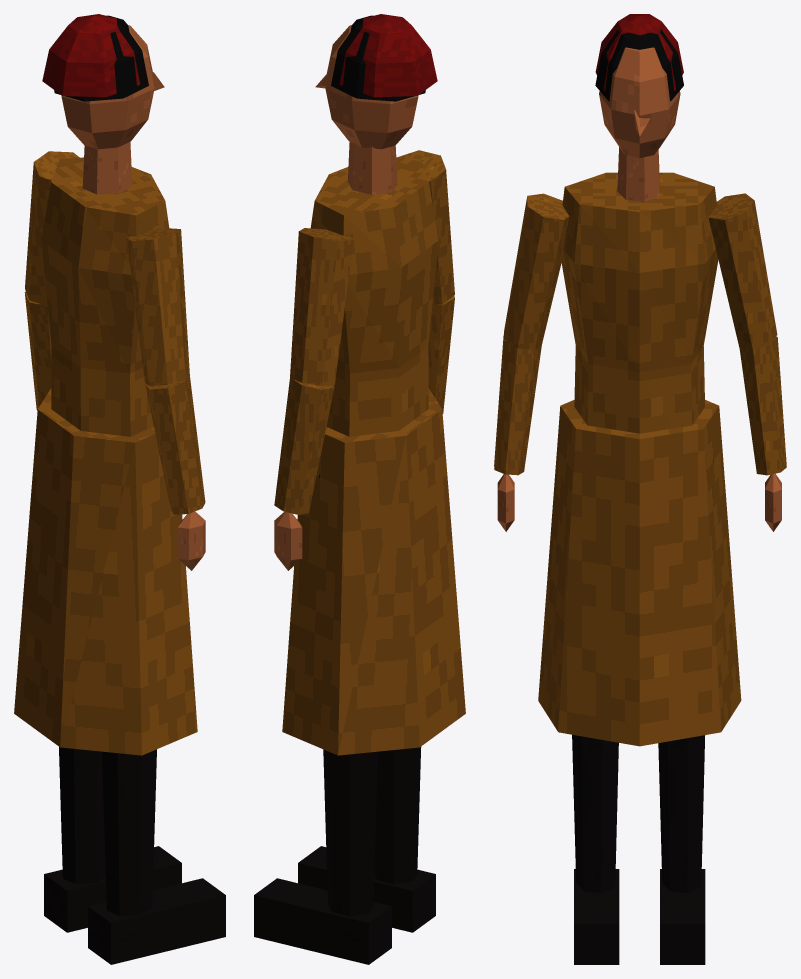
The model's file is refugiado.glb.
3 views of the same model, side by side, from view 1: azimuth 30°, elevation 25°; view 2: azimuth 150°, elevation 25°; view 3: azimuth 270°, elevation 25° (orthographic). The views are drawn at different scales.
Visible parts, largest first — view 1: faldon, torso, pierna_der, brazo_der, pie_der, pierna_izq, panuelo, antebrazo_der, cabeza, pie_izq, brazo_izq, cuello (+3 smaller); view 2: faldon, torso, pierna_izq, brazo_izq, pie_izq, pierna_der, antebrazo_izq, panuelo, cabeza, pie_der, brazo_der, cuello (+3 smaller); view 3: faldon, torso, brazo_izq, pierna_der, brazo_der, pierna_izq, cabeza, antebrazo_izq, antebrazo_der, pie_izq, pie_der, cabello (+4 smaller).
Boxes of the visible parts, x1,y1,x2,y2 form: faldon: (14, 388, 197, 755); torso: (41, 157, 169, 436); pierna_der: (102, 749, 156, 915); brazo_der: (126, 228, 189, 385); pie_der: (88, 878, 225, 964); pierna_izq: (59, 747, 105, 883); panuelo: (42, 14, 140, 97); antebrazo_der: (145, 376, 205, 514); cabeza: (61, 25, 164, 149); pie_izq: (44, 846, 181, 932); brazo_izq: (25, 151, 79, 306); cuello: (82, 142, 132, 194); faldon: (282, 388, 465, 755); torso: (310, 157, 438, 436); pierna_izq: (323, 749, 377, 916); brazo_izq: (290, 228, 353, 385); pie_izq: (254, 878, 391, 964); pierna_der: (374, 746, 421, 884); antebrazo_izq: (274, 377, 334, 514); panuelo: (339, 14, 437, 97); cabeza: (315, 25, 418, 149); pie_der: (298, 846, 435, 932); brazo_der: (397, 150, 454, 304); cuello: (348, 142, 397, 194); faldon: (538, 399, 741, 746); torso: (561, 172, 718, 433); brazo_izq: (708, 193, 777, 350); pierna_der: (572, 734, 618, 892); brazo_der: (504, 193, 569, 350); pierna_izq: (658, 735, 705, 892); cabeza: (599, 47, 680, 158); antebrazo_izq: (739, 336, 786, 475); antebrazo_der: (494, 334, 541, 475); pie_izq: (660, 869, 705, 964); pie_der: (574, 869, 619, 964); cabello: (595, 29, 683, 101).
Size of the model in its own units: 0.3 by 1.7 by 0.5.
Materials: 1 (1 with a texture image).
